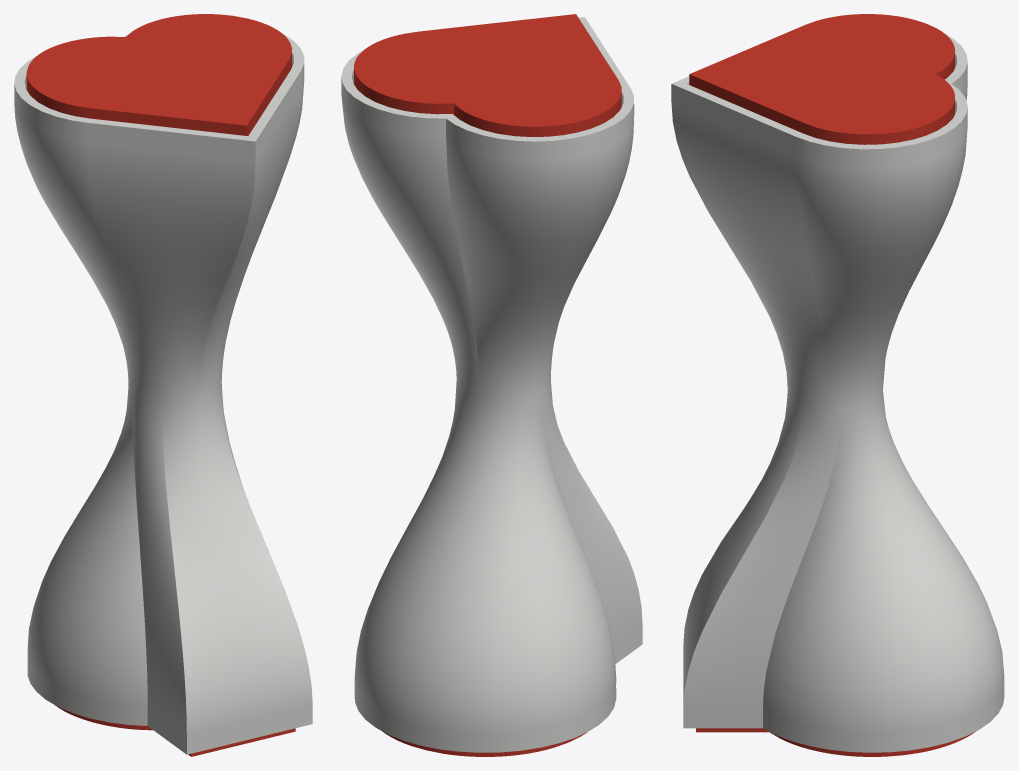
The model's file is HOUR-GLASS-SKULL-HEART5 v1.fbx.
The picture shows the model from 3 angles, left to right: view 1: azimuth 30°, elevation 25°; view 2: azimuth 150°, elevation 25°; view 3: azimuth 270°, elevation 25°; orthographic projection.
Parts seen in each view (by area): view 1: Body1, Body3, Body2; view 2: Body1, Body3, Body2; view 3: Body1, Body3, Body2.
Boxes of the visible parts, bbox=[...] form: Body1: bbox=[14, 33, 312, 754]; Body3: bbox=[26, 14, 291, 135]; Body2: bbox=[55, 705, 295, 756]; Body1: bbox=[341, 17, 642, 752]; Body3: bbox=[354, 14, 621, 136]; Body2: bbox=[382, 731, 587, 756]; Body1: bbox=[671, 35, 1004, 752]; Body3: bbox=[689, 14, 954, 144]; Body2: bbox=[696, 728, 975, 756].
Bounding box in the file's own units: 29.34 × 66 × 31.5.
